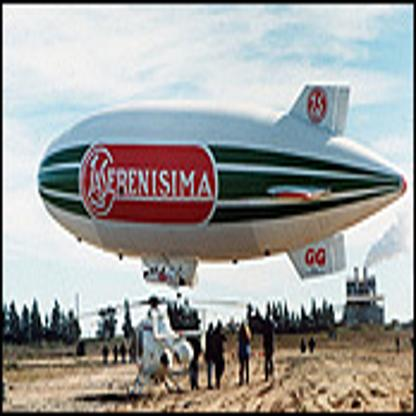Airship: (34, 81, 410, 290)
